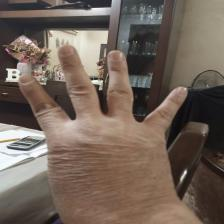four: (11, 42, 195, 221)
